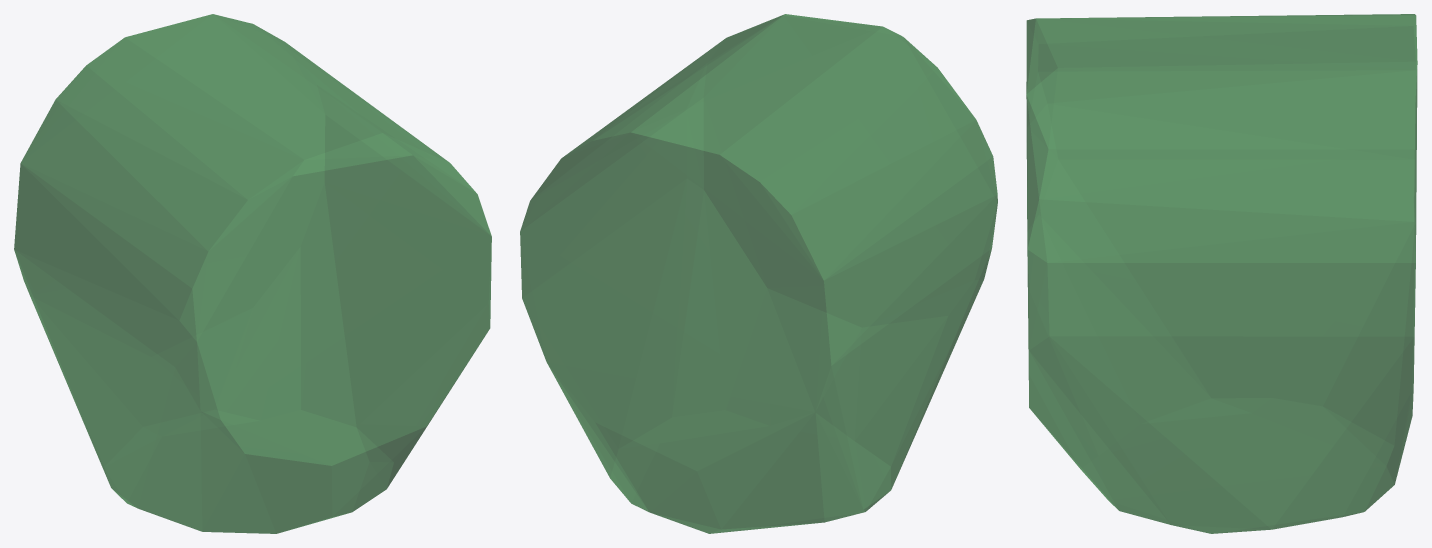
The picture shows the model from 3 angles, left to right: view 1: azimuth 30°, elevation 25°; view 2: azimuth 150°, elevation 25°; view 3: azimuth 270°, elevation 25°; orthographic projection. The views are drawn at different scales.
Visible parts, largest first — view 1: Shape_IndexedFaceSet.003_Shape_IndexedFaceSet.13285; view 2: Shape_IndexedFaceSet.003_Shape_IndexedFaceSet.13285; view 3: Shape_IndexedFaceSet.003_Shape_IndexedFaceSet.13285.
Boxes of the visible parts, x1=… form: Shape_IndexedFaceSet.003_Shape_IndexedFaceSet.13285: x1=14, y1=14, x2=491, y2=533; Shape_IndexedFaceSet.003_Shape_IndexedFaceSet.13285: x1=520, y1=14, x2=997, y2=533; Shape_IndexedFaceSet.003_Shape_IndexedFaceSet.13285: x1=1026, y1=14, x2=1417, y2=533.
Bounding box in the file's own units: 0.2292 × 0.2783 × 0.2244.
